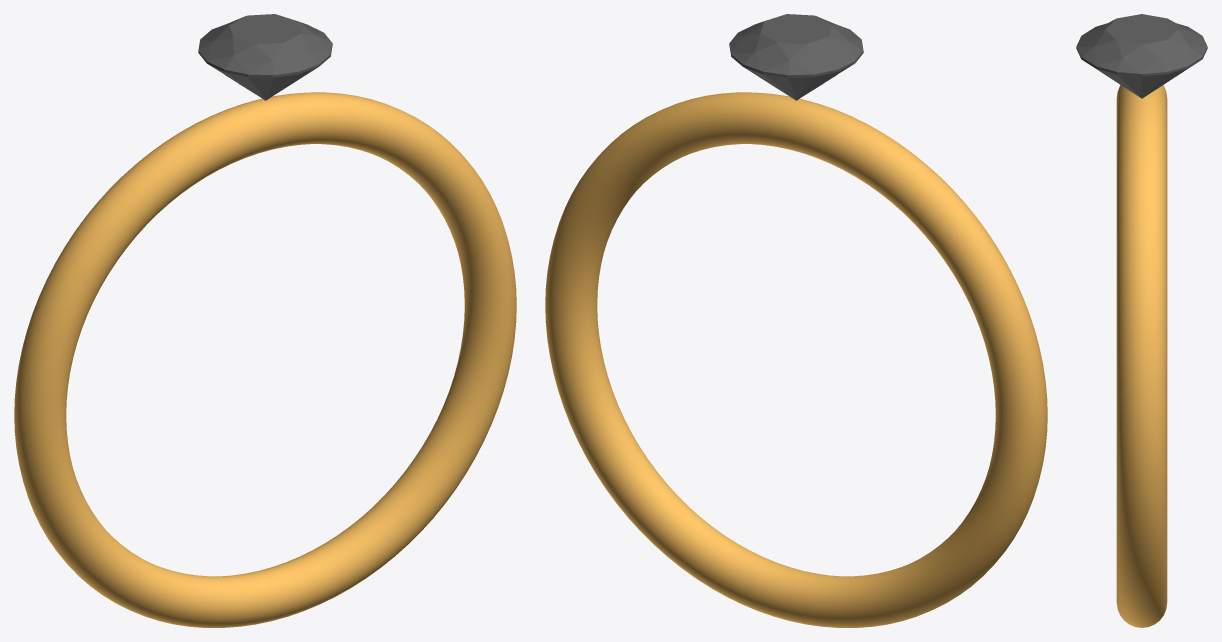
Rendered from ring.glb.
3 renders of one model, left to right at view 1: azimuth 30°, elevation 25°; view 2: azimuth 150°, elevation 25°; view 3: azimuth 270°, elevation 25°, orthographic. The views are drawn at different scales.
Parts seen in each view (by area): view 1: Band, Stone_Large; view 2: Band, Stone_Large; view 3: Band, Stone_Large, Stone_Medium, Stone_Small.
Part boxes in pixels (x1,y1,x2,y2): Band: [14, 92, 516, 627]; Stone_Large: [198, 14, 332, 84]; Band: [545, 92, 1047, 627]; Stone_Large: [729, 14, 863, 84]; Band: [1116, 85, 1167, 627]; Stone_Large: [1076, 14, 1207, 82]; Stone_Medium: [1106, 75, 1177, 88]; Stone_Small: [1120, 84, 1163, 98].
Bounding box in the file's own units: 2.2 × 2.5 × 0.52.
